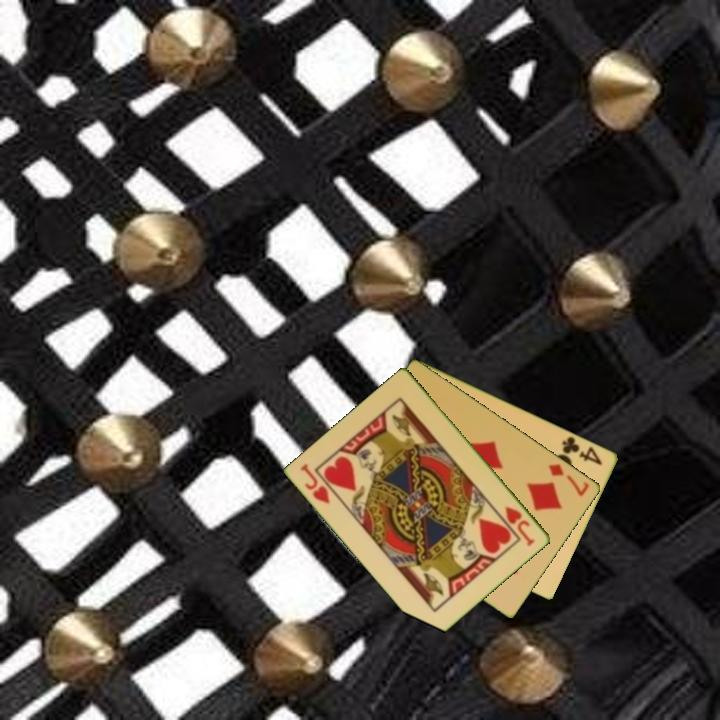4c: (559, 433, 606, 468)
7d: (545, 460, 593, 499)
Jh: (501, 503, 538, 549), (297, 460, 333, 507)
